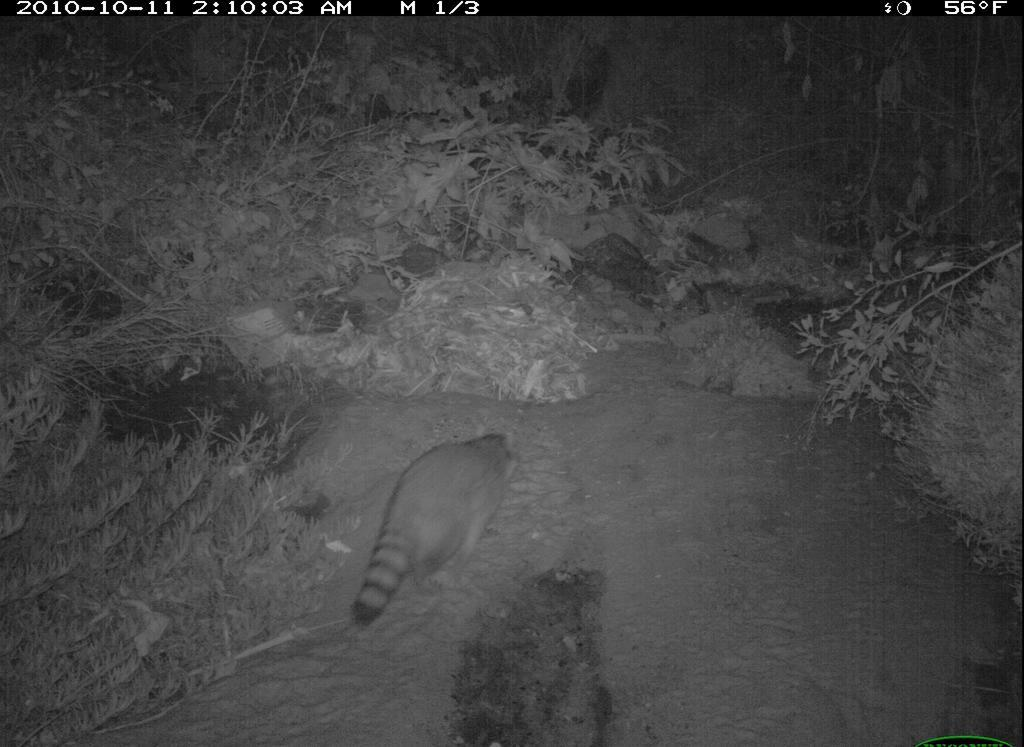raccoon: (336, 424, 550, 629)
